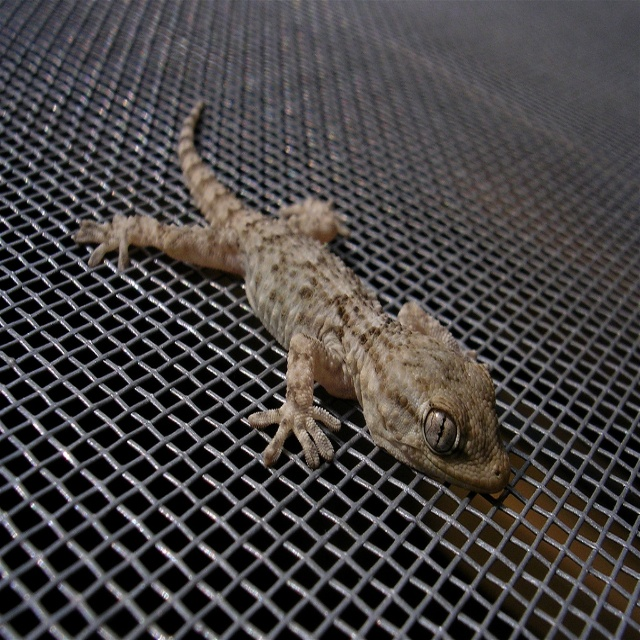Lizard: (73, 103, 512, 494)
